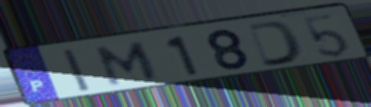1: (164, 33, 201, 78)
5: (299, 12, 352, 59)
8: (205, 28, 252, 71)
D: (244, 19, 305, 69)
I: (60, 47, 95, 94)
M: (95, 40, 161, 89)
